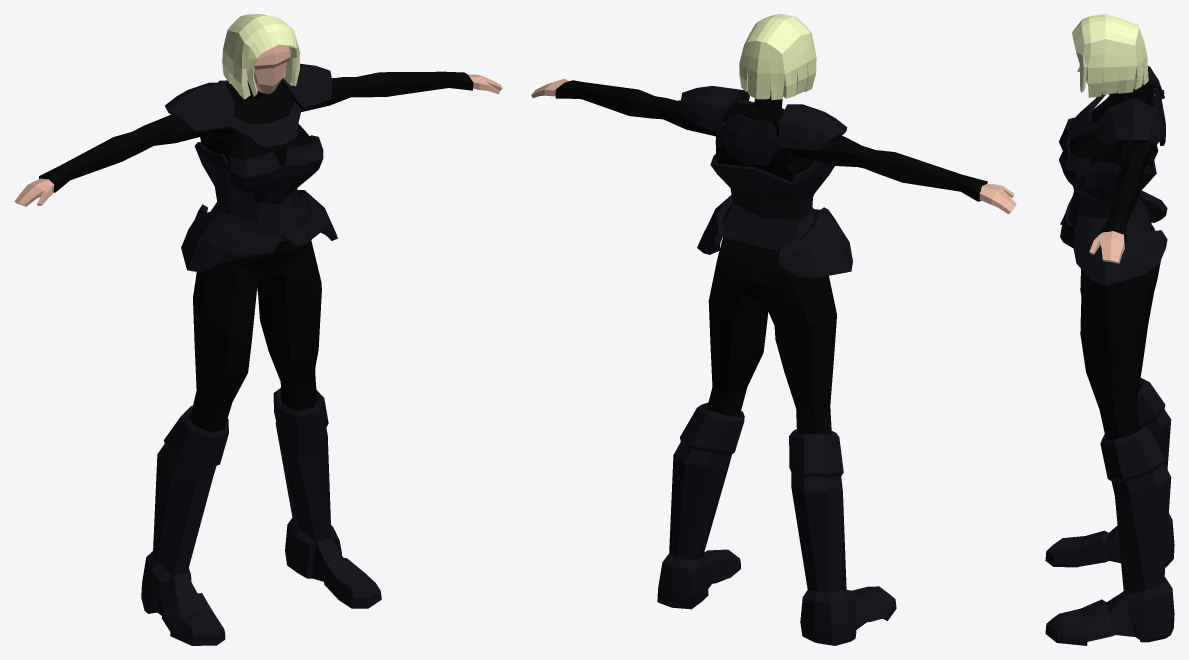
The model's file is bodyless_character_2.obj.
3 views of the same model, side by side, from view 1: azimuth 30°, elevation 25°; view 2: azimuth 150°, elevation 25°; view 3: azimuth 270°, elevation 25° (orthographic).
Parts seen in each view (by area): view 1: cloth, steel_boot_R, torso_armor_piece, steel_boot_L, waist_armor_pieces, steel_boot_foot_R, steel_boot_foot_L, hair, shoulder_armor_pads_R, body, shoulder_armor_plates, shoulder_armor_pads_L; view 2: cloth, steel_boot_R, steel_boot_L, torso_armor_piece, hair, waist_armor_pieces, steel_boot_foot_R, steel_boot_foot_L, shoulder_armor_plates, shoulder_armor_pads_R, shoulder_armor_pads_L, body; view 3: cloth, steel_boot_L, steel_boot_foot_L, hair, waist_armor_pieces, torso_armor_piece, shoulder_armor_pads_L, steel_boot_foot_R, steel_boot_R, shoulder_armor_plates, body, shoulder_armor_pads_R.
Boxes of the visible parts, x1,y1,x2,y2 form: cloth: [39, 71, 473, 432]; steel_boot_R: [153, 405, 228, 576]; torso_armor_piece: [194, 135, 323, 242]; steel_boot_L: [273, 388, 331, 542]; waist_armor_pieces: [181, 189, 337, 271]; steel_boot_foot_R: [141, 551, 225, 645]; steel_boot_foot_L: [285, 518, 381, 608]; hair: [222, 14, 299, 99]; shoulder_armor_pads_R: [165, 82, 234, 132]; body: [14, 45, 502, 206]; shoulder_armor_plates: [218, 80, 306, 148]; shoulder_armor_pads_L: [280, 63, 332, 109]; cloth: [555, 80, 987, 434]; steel_boot_R: [789, 429, 846, 592]; steel_boot_L: [669, 402, 744, 560]; torso_armor_piece: [710, 154, 834, 250]; hair: [739, 14, 816, 99]; waist_armor_pieces: [697, 195, 852, 277]; steel_boot_foot_R: [800, 586, 896, 645]; steel_boot_foot_L: [657, 549, 740, 609]; shoulder_armor_plates: [715, 99, 782, 165]; shoulder_armor_pads_R: [778, 104, 847, 150]; shoulder_armor_pads_L: [680, 86, 749, 131]; body: [531, 78, 1016, 214]; cloth: [1069, 83, 1160, 439]; steel_boot_L: [1100, 422, 1171, 595]; steel_boot_foot_L: [1045, 577, 1174, 645]; hair: [1072, 14, 1148, 97]; waist_armor_pieces: [1060, 190, 1167, 285]; torso_armor_piece: [1059, 117, 1156, 231]; shoulder_armor_pads_L: [1093, 98, 1165, 148]; steel_boot_foot_R: [1045, 514, 1174, 567]; steel_boot_R: [1136, 378, 1171, 469]; shoulder_armor_plates: [1069, 88, 1165, 145]; body: [1077, 67, 1124, 263]; shoulder_armor_pads_R: [1096, 66, 1164, 98].
Bounding box in the file's own units: 2.48 × 2.89 × 0.5833.
4 materials, 3 textured.
